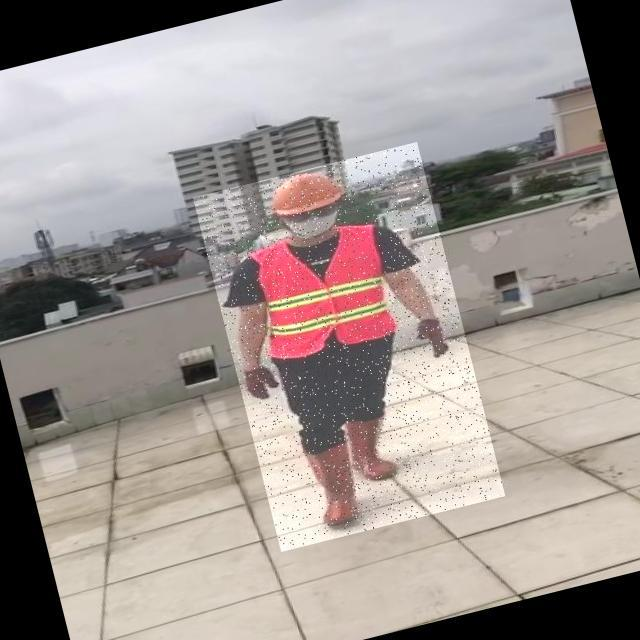Gloves: (413, 315, 453, 364), (239, 362, 282, 404)
Helmet: (265, 165, 346, 220)
Human: (193, 142, 505, 552)
Safety Boot: (300, 441, 366, 532), (341, 412, 401, 486)
Safety Vest: (246, 219, 399, 365)
